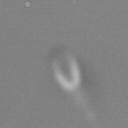normal: (72, 89, 101, 128)
